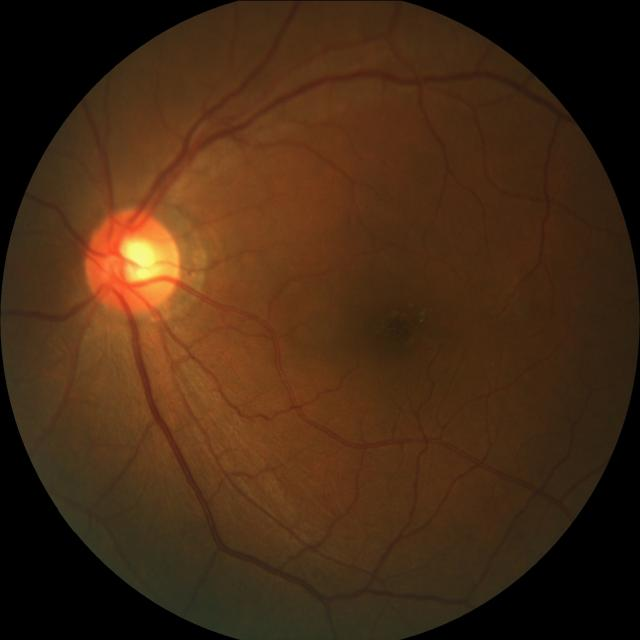OC: (112, 234, 163, 284)
OD: (87, 208, 183, 314)
